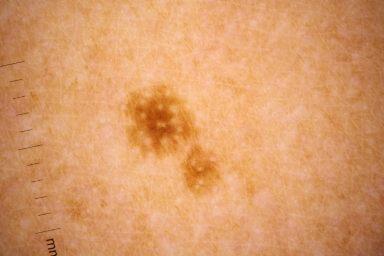melanoma: (126, 88, 190, 153), (184, 155, 220, 196)
